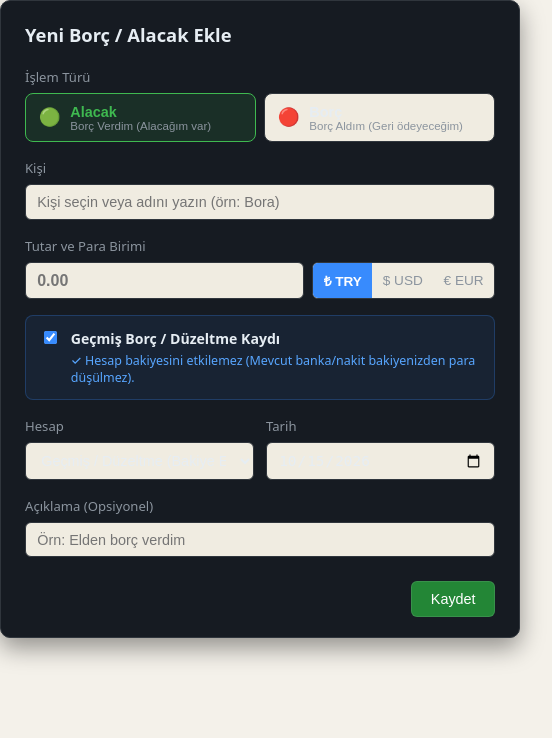
Test: BorcFormu › zorunlu alanları doğrular (kişi ve tutar)
The width and height of the screenshot is (552, 738).
Click the button "Kaydet": (453, 599) [411,581,495,617]
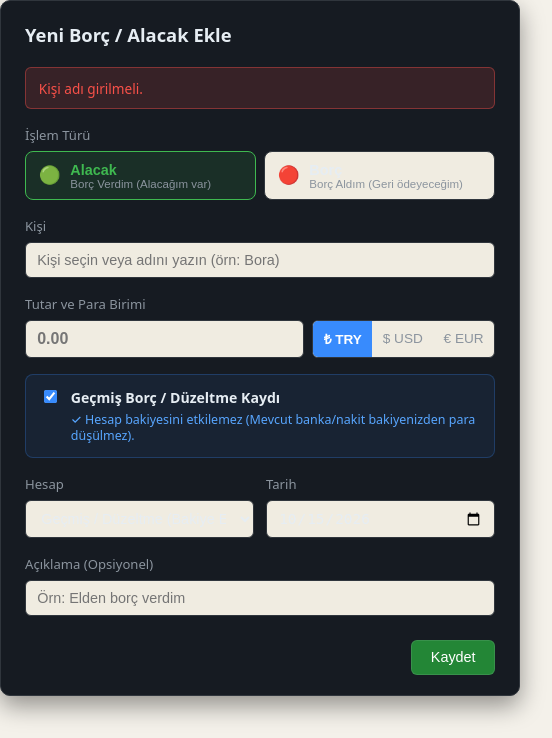
Expected: the text "Kişi adı girilmeli." is shown, [25,67,495,109]
